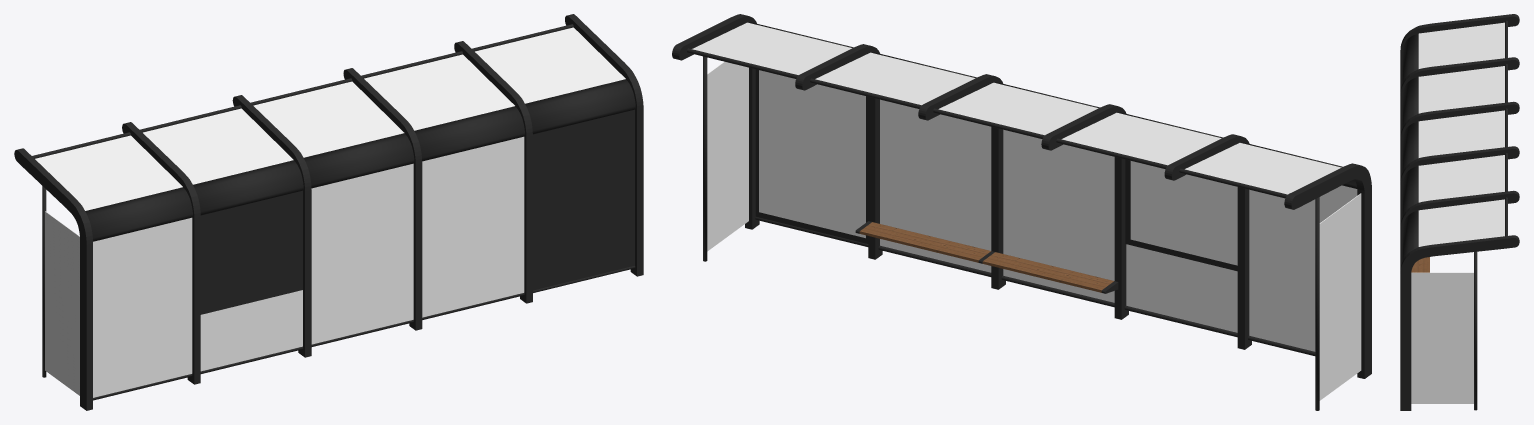
Rendered from shelter_long.glb.
The picture shows the model from 3 angles, left to right: view 1: azimuth 30°, elevation 25°; view 2: azimuth 150°, elevation 25°; view 3: azimuth 270°, elevation 25°; orthographic projection. The views are drawn at different scales.
Visible parts, largest first — view 1: connector1_w; view 2: connector1_w; view 3: connector1_w.
Part boxes in pixels (bbox=[...]): connector1_w: bbox=[14, 14, 643, 410]; connector1_w: bbox=[672, 14, 1371, 410]; connector1_w: bbox=[1400, 14, 1519, 410].
Bounding box in the file's own units: 7.49 × 2.7 × 1.68.
Materials: 6 (2 with a texture image).
